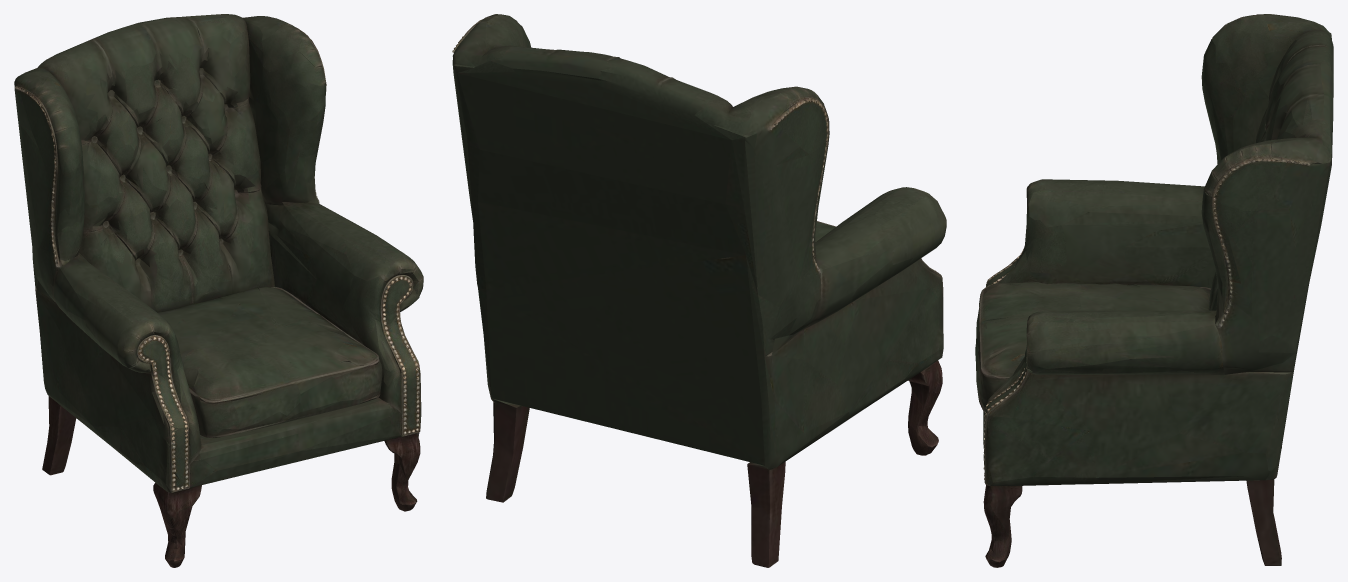
File: sp_m_armchair.glb
3 renders of one model, left to right at view 1: azimuth 30°, elevation 25°; view 2: azimuth 150°, elevation 25°; view 3: azimuth 270°, elevation 25°, orthographic. The views are drawn at different scales.
Visible parts, largest first — view 1: Mesh_0; view 2: Mesh_0; view 3: Mesh_0.
Part boxes in pixels (x1,y1,x2,y2): Mesh_0: (14,14,423,567); Mesh_0: (452,14,946,567); Mesh_0: (975,14,1333,567).
Size of the model in its own units: 1.48 by 1.9 by 1.4.
1 material, 1 textured.
